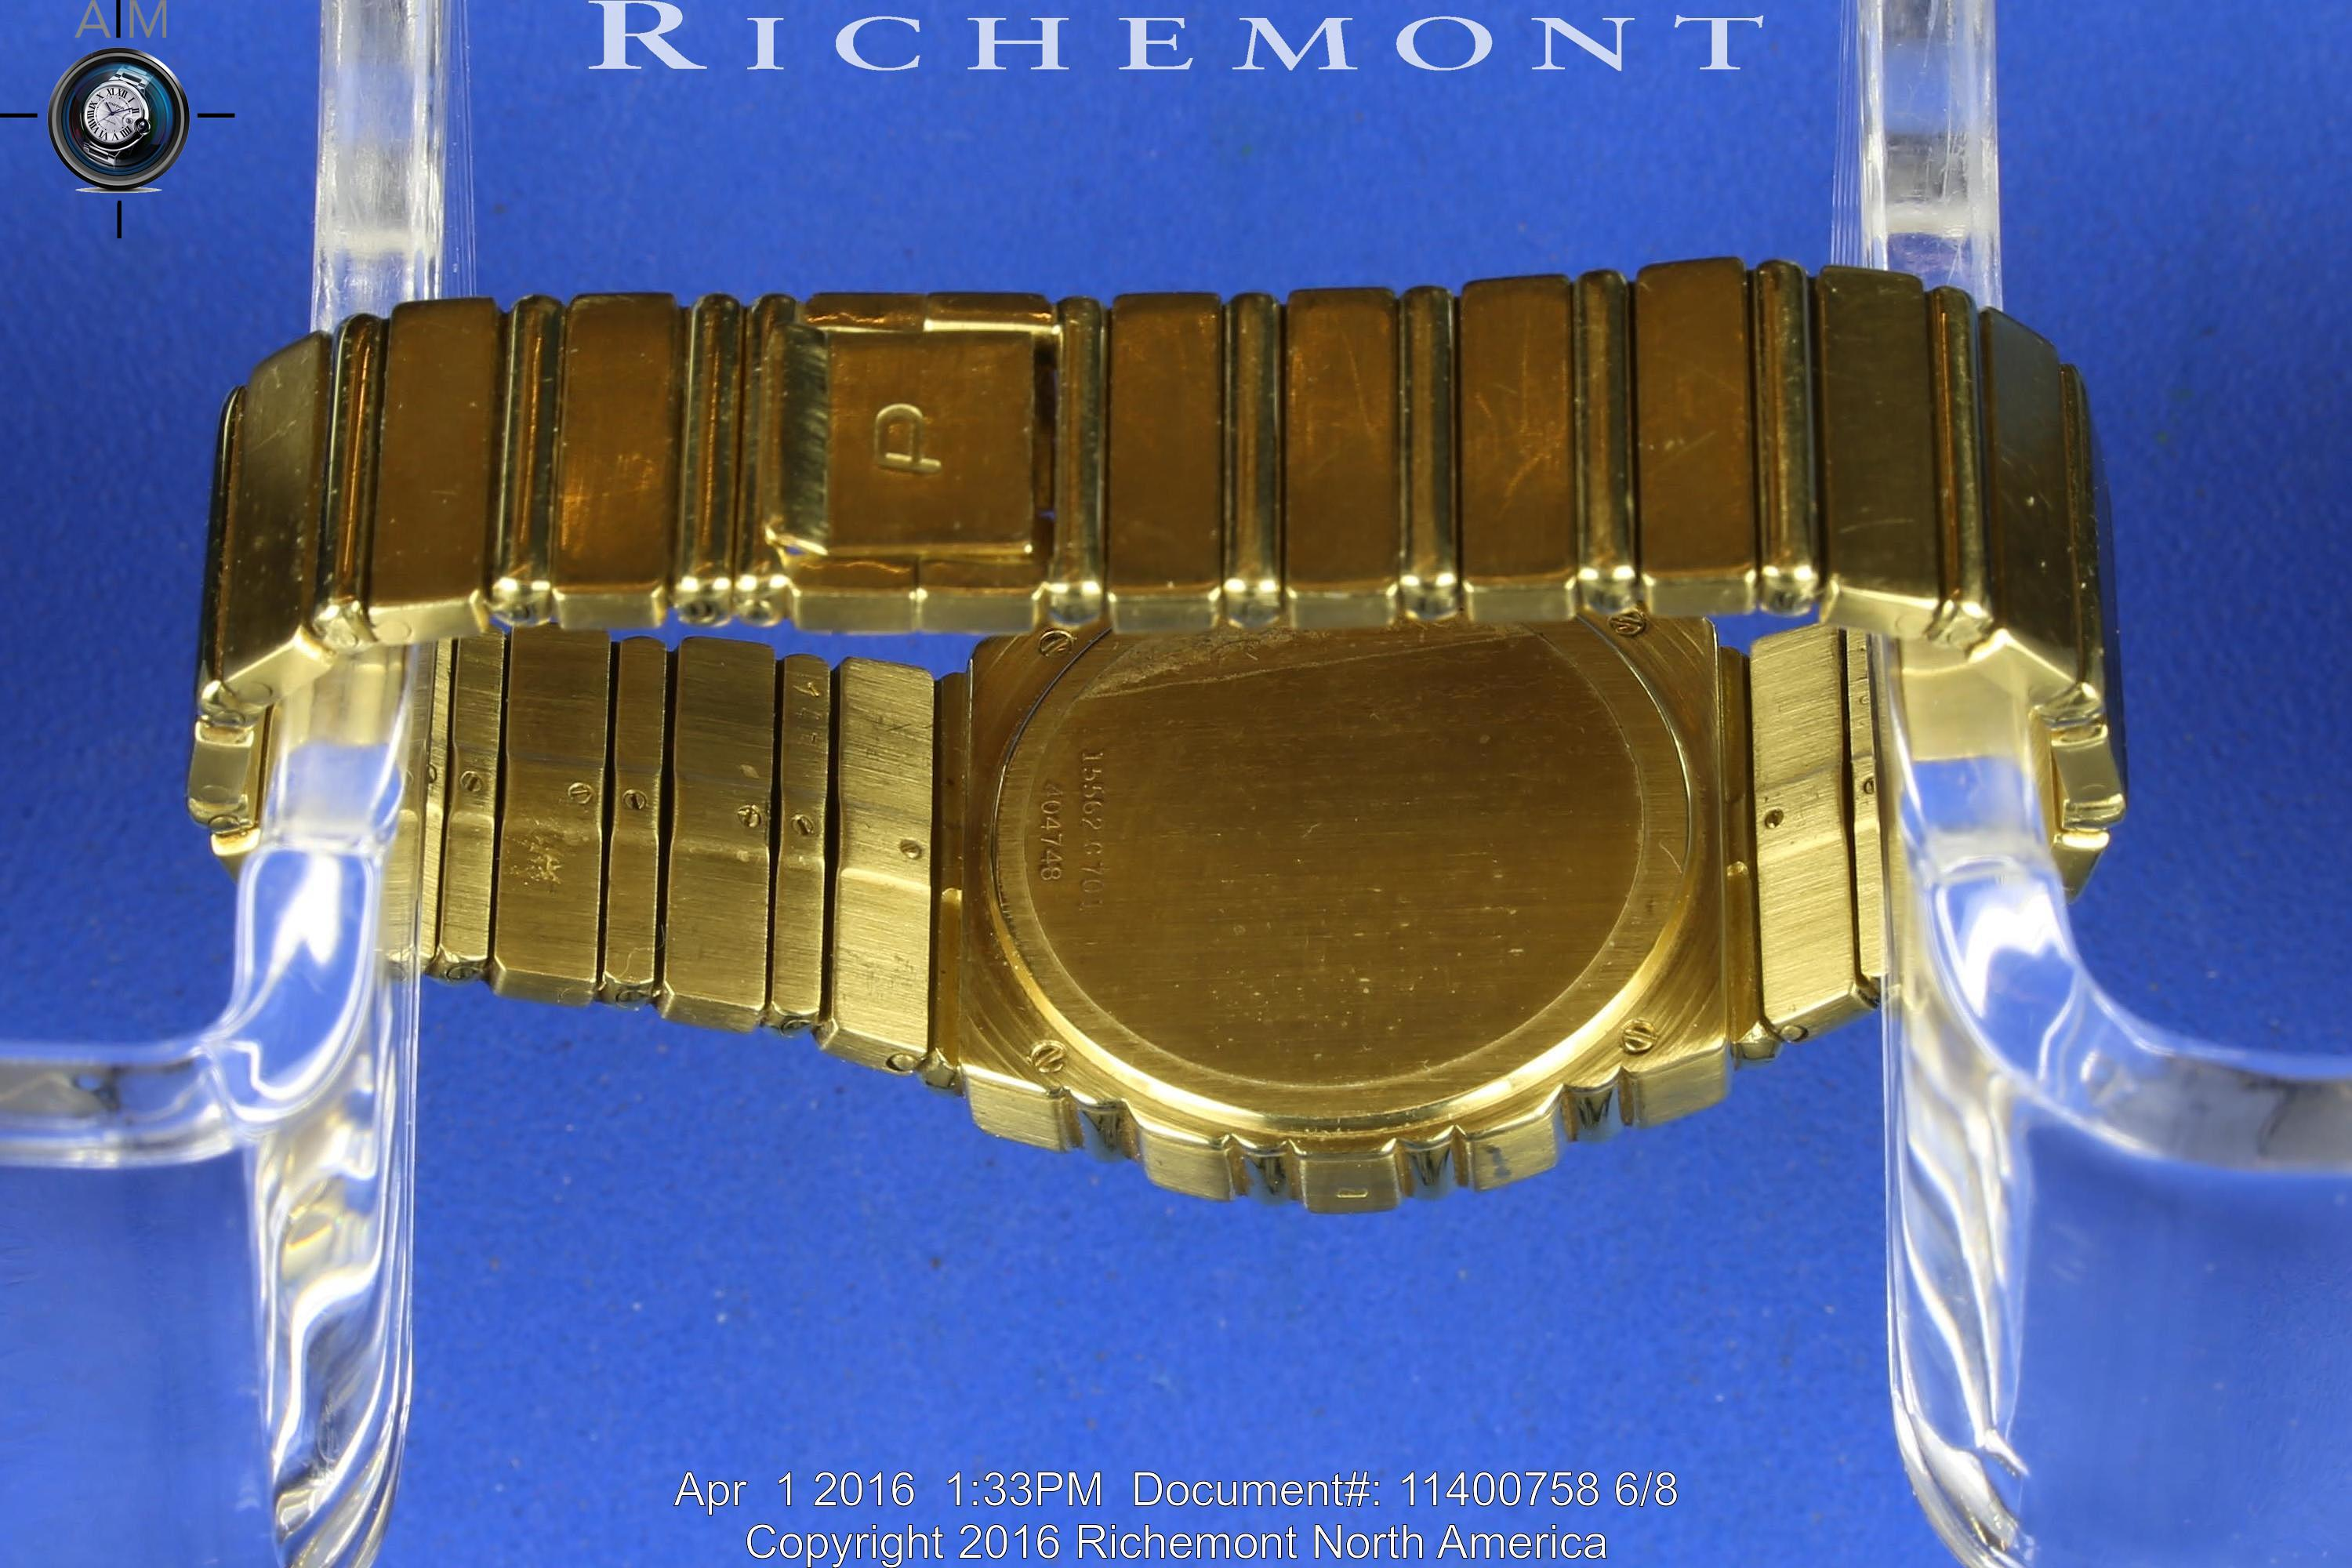Watch BackCase: (943, 641, 1741, 1223)
